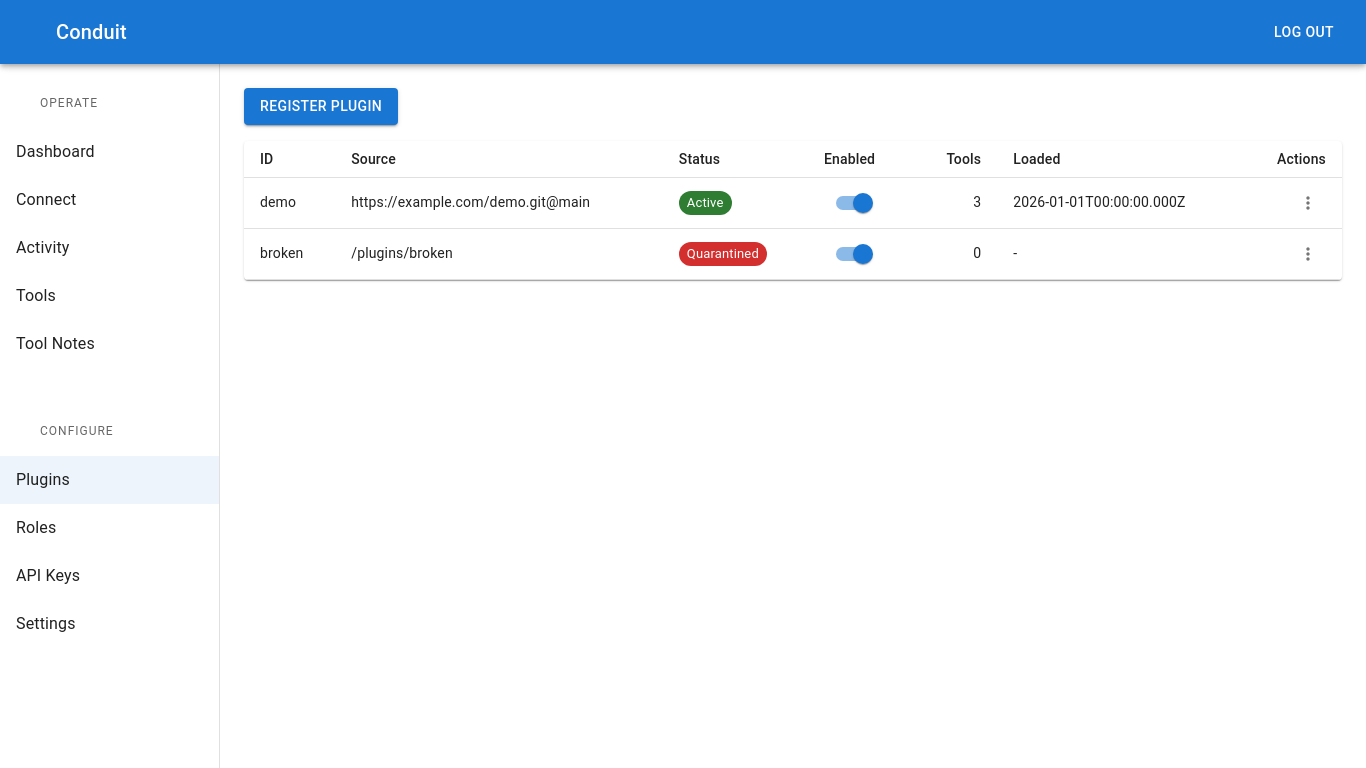
Scenario: plugins page › shows the lastError for a quarantined row on hover
This screenshot has width=1366, height=768.
Hover over the text "Quarantined" at (723, 253), box top-left (687, 246), bottom-right (759, 261)
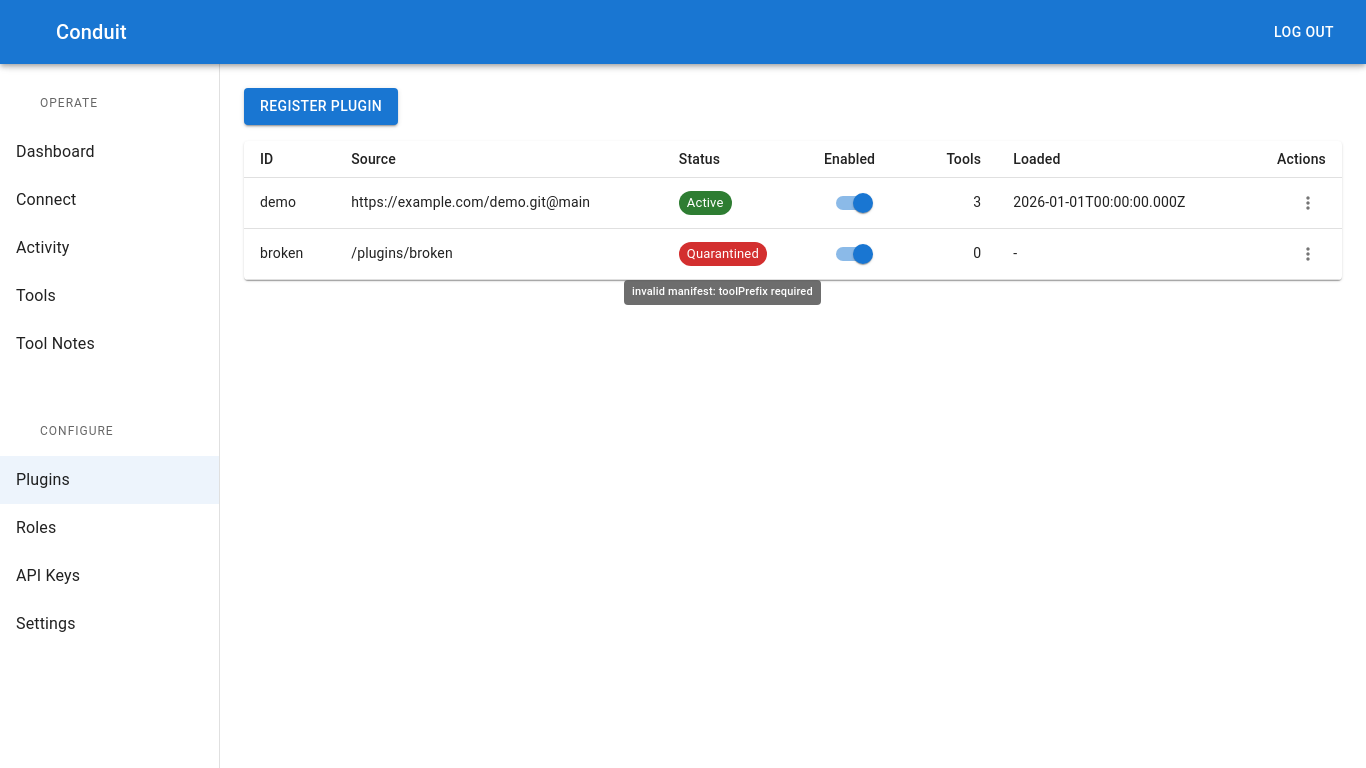
expect the text "invalid manifest: toolPrefix required" is shown: met, box top-left (624, 280), bottom-right (821, 304)
